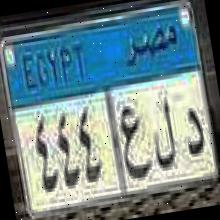4: (70, 106, 104, 188), (50, 108, 83, 192), (30, 115, 62, 200)
ain: (112, 97, 155, 187)
daal: (176, 99, 208, 166)
laam: (144, 84, 182, 171)
